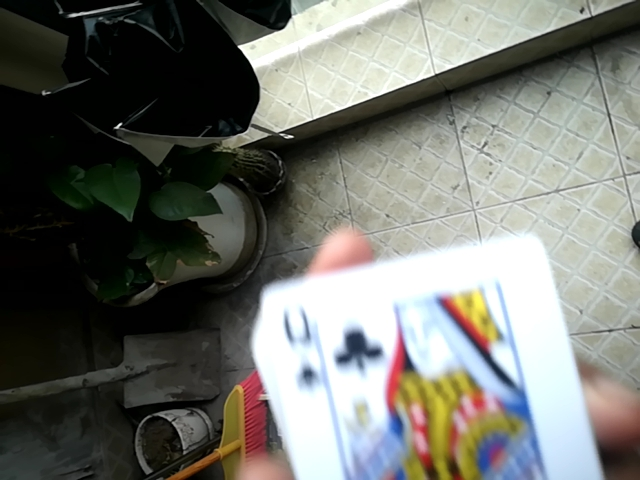mh q: (235, 226, 636, 480)
